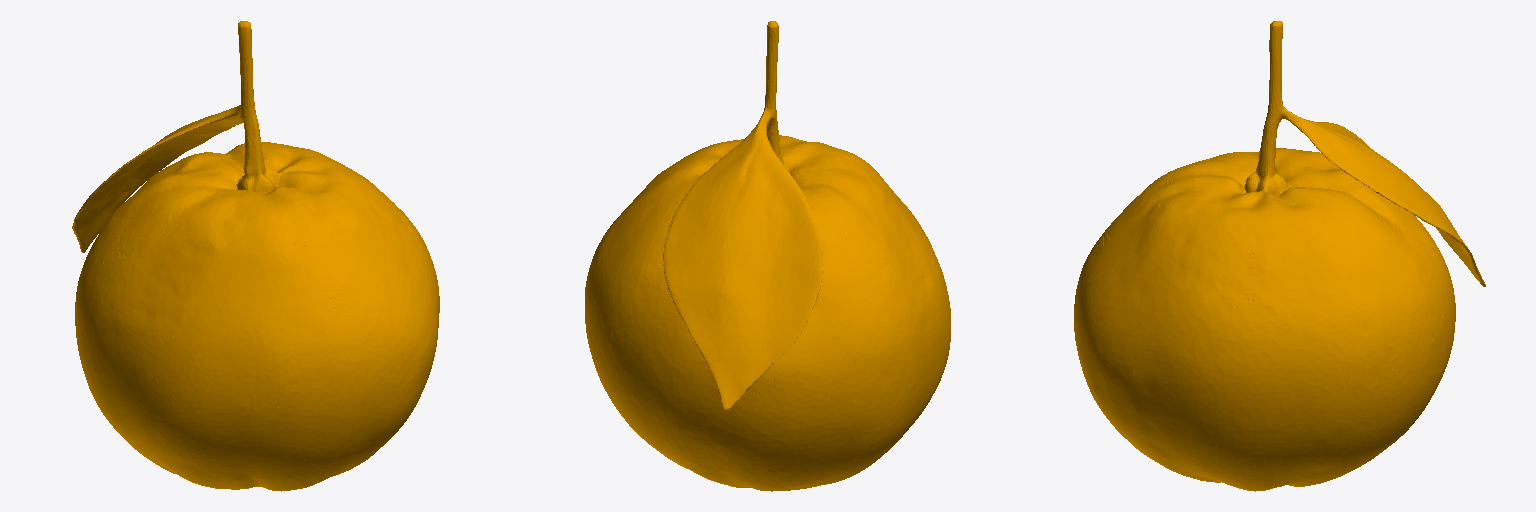
URDF robot description (sample):
<?xml version="1.0" ?>
<robot name="sample">
   <link name="sample">
      <visual>
         <origin xyz="0 0 0" rpy="1.5708 0.0 0.0"/>
         <geometry>
            <mesh filename="mesh/sample.obj" scale="1.0 1.0 1.0"/>
         </geometry>
      </visual>
      <collision>
         <origin xyz="0 0 0" rpy="1.5708 0.0 0.0"/>
         <geometry>
            <mesh filename="mesh/sample_collision.obj" scale="1.0 1.0 1.0"/>
         </geometry>
         <gazebo>
            <mu1>0.40</mu1>
            <mu2>0.35</mu2>
         </gazebo>
      </collision>
      <inertial>
         <mass value="0.2000"/>
         <origin xyz="0 0 0"/>
         <inertia ixx="1.0" ixy="0.0" ixz="0.0" iyy="1.0" iyz="0.0" izz="1.0"/>
      </inertial>
      <extra_info>
         <scale>0.090000</scale>
         <version>v0.1.7</version>
         <category>orange</category>
         <description>round orange fruit with stem and leaf</description>
         <min_height>0.08</min_height>
         <max_height>0.1</max_height>
         <real_height>0.09</real_height>
         <min_mass>0.15</min_mass>
         <max_mass>0.25</max_mass>
         <generate_time>20260304163644</generate_time>
         <gs_model>mesh/sample_gs.ply</gs_model>
      </extra_info>
   </link>
   <custom_data>
      <quality>
         <MeshGeoChecker>YES</MeshGeoChecker>
         <ImageSegChecker>NO, only one orange is segmented, missing other fruits and incomplete.</ImageSegChecker>
         <ImageAestheticChecker>5.144139289855957</ImageAestheticChecker>
         <overall>NO</overall>
      </quality>
   </custom_data>
</robot>

--- Facts derived from the render (not from the file) ---
3 views of the same robot in one strip: view 1: azimuth 30°, elevation 25°; view 2: azimuth 150°, elevation 25°; view 3: azimuth 270°, elevation 25° (orthographic).
Model sample with 1 links and 0 joints (none), rooted at sample, posed all joints at 0.
Links seen in each view (by area): view 1: sample; view 2: sample; view 3: sample.
Boxes of the visible links, <box> form: sample: <box>72,21,439,491</box>; sample: <box>585,21,950,491</box>; sample: <box>1074,21,1485,491</box>.
Size in the robot's own frame: 0.0652 by 0.0755 by 0.09 metres.
Meshes: 1 distinct files referenced, 1 mesh visuals loaded (1 OBJ).
